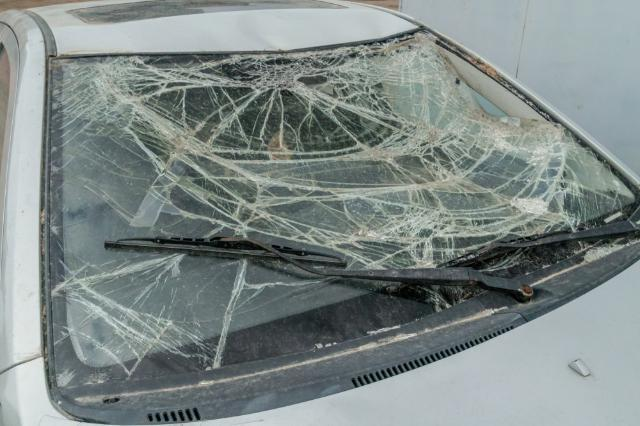glass shatter: (49, 30, 640, 389)
